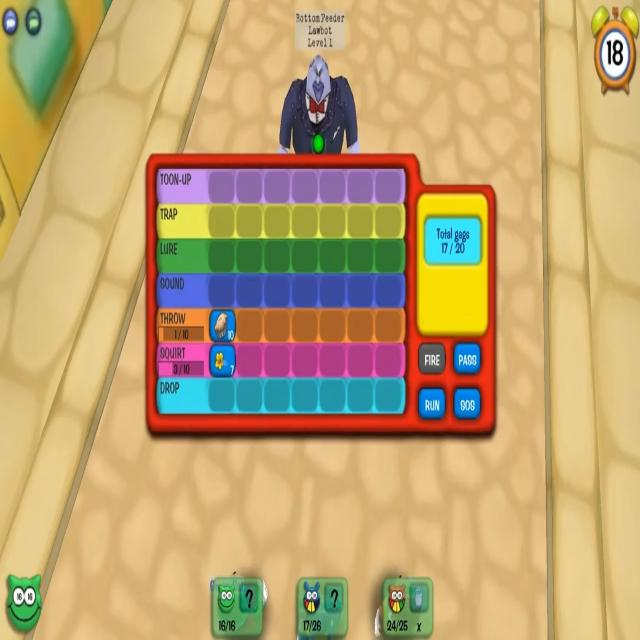bottomfeeder: (281, 14, 361, 162)
